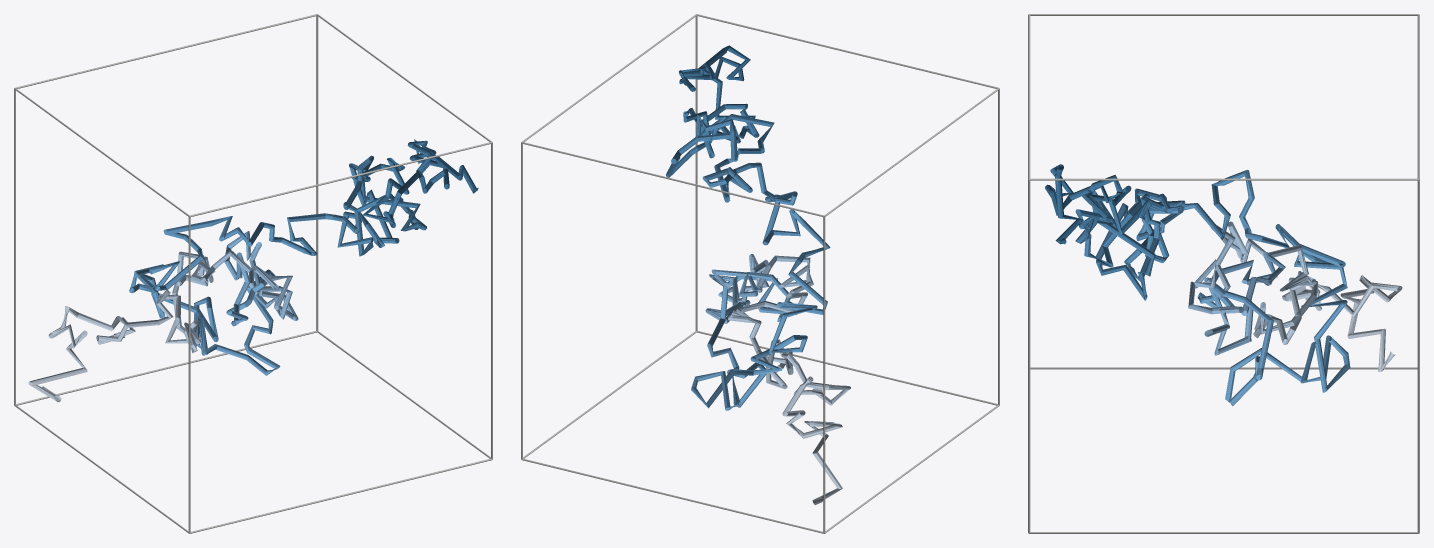
3 renders of one model, left to right at view 1: azimuth 30°, elevation 25°; view 2: azimuth 150°, elevation 25°; view 3: azimuth 270°, elevation 25°, orthographic. The views are drawn at different scales.
Parts seen in each view (by area): view 1: geometry_0, geometry_1; view 2: geometry_0, geometry_1; view 3: geometry_0, geometry_1.
Boxes of the visible parts, x1,y1,x2,y2 form: geometry_0: (28,139,478,402); geometry_1: (14,14,492,533); geometry_0: (666,45,850,504); geometry_1: (521,14,999,533); geometry_0: (1045,164,1402,405); geometry_1: (1028,14,1419,533).
Bounding box in the file's own units: 0.3044 × 0.3014 × 0.3016.
